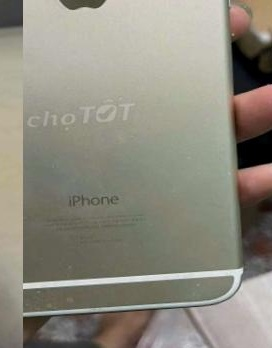scratch: (23, 249, 211, 323)
